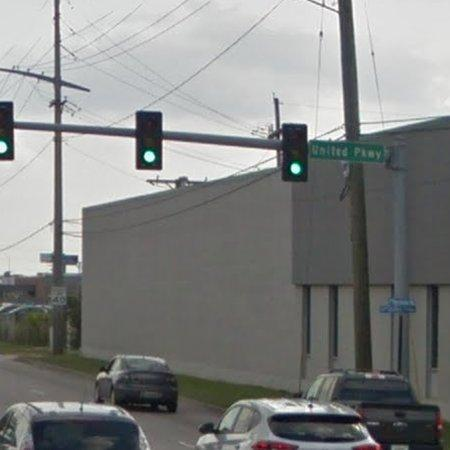traffic lights: (282, 124, 308, 182)
